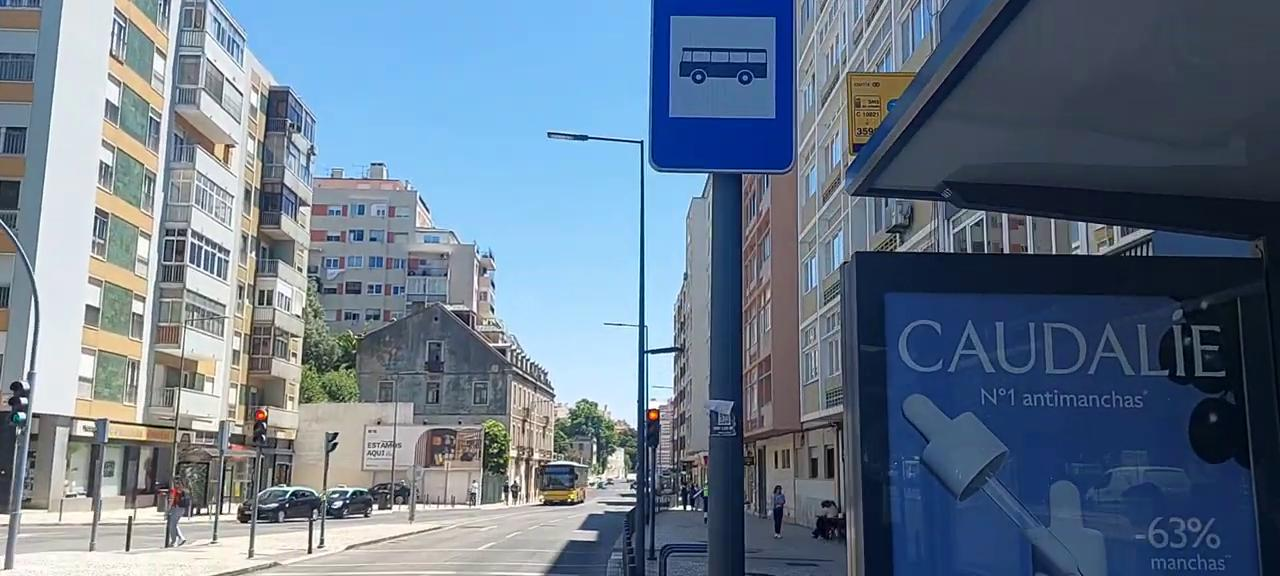paragem de veiculos de transporte colectivo de passageiros: (647, 0, 799, 176)
